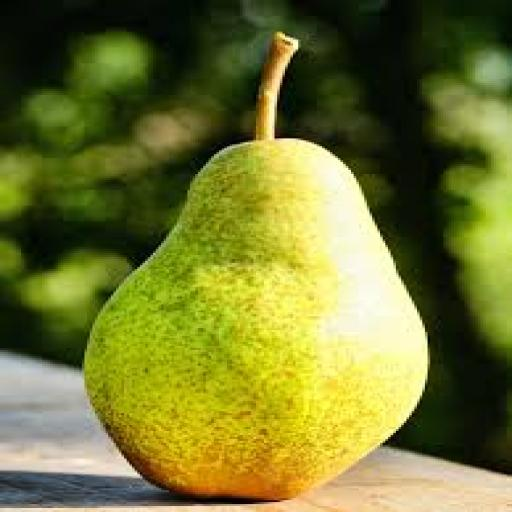pear: (82, 14, 439, 506)
